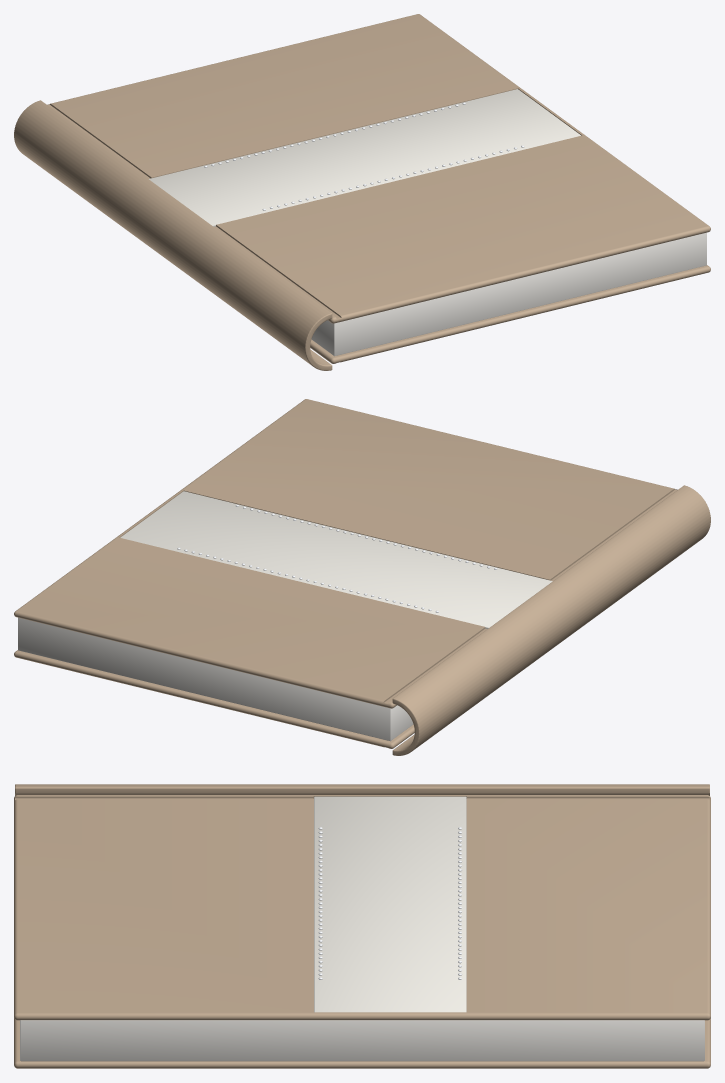
The model's file is fascia-ornament--portrait.glb.
The picture shows the model from 3 angles, top to bottom: view 1: azimuth 30°, elevation 25°; view 2: azimuth 150°, elevation 25°; view 3: azimuth 270°, elevation 25°; orthographic projection. The views are drawn at different scales.
Visible parts, largest first — view 1: CoverFront, Band, Spine, Pages, CoverBack; view 2: CoverFront, Band, Spine, Pages, CoverBack; view 3: CoverFront, Band, Pages, Spine, CoverBack.
Part boxes in pixels (x1=…): CoverFront: x1=47, y1=14, x2=710, y2=323; Band: x1=149, y1=89, x2=580, y2=226; Spine: x1=14, y1=100, x2=332, y2=370; Pages: x1=311, y1=232, x2=706, y2=356; CoverBack: x1=310, y1=265, x2=710, y2=363; CoverFront: x1=14, y1=399, x2=677, y2=708; Band: x1=120, y1=491, x2=552, y2=628; Spine: x1=392, y1=485, x2=710, y2=755; Pages: x1=18, y1=617, x2=413, y2=741; CoverBack: x1=14, y1=650, x2=414, y2=748; CoverFront: x1=14, y1=795, x2=710, y2=1020; Band: x1=314, y1=796, x2=466, y2=1012; Pages: x1=20, y1=1020, x2=704, y2=1061; Spine: x1=15, y1=784, x2=709, y2=795; CoverBack: x1=14, y1=1018, x2=710, y2=1068.
Size of the model in its own units: 0.3208 by 0.043 by 0.4.
